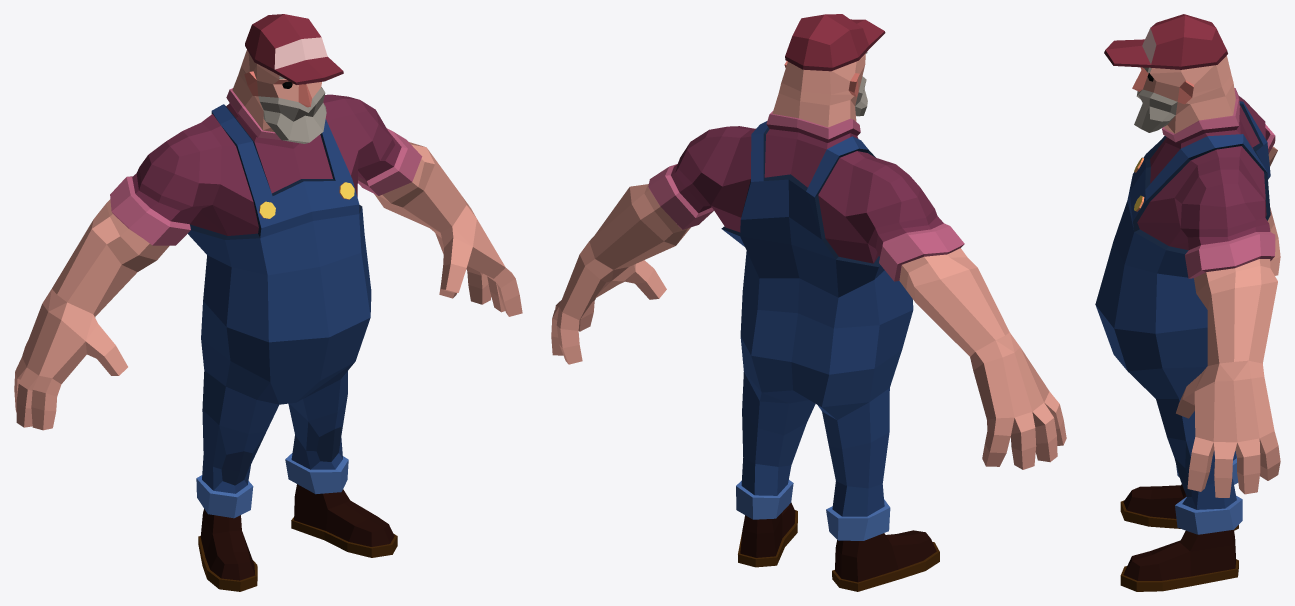
File: Farmer_1.fbx
The picture shows the model from 3 angles, left to right: view 1: azimuth 30°, elevation 25°; view 2: azimuth 150°, elevation 25°; view 3: azimuth 270°, elevation 25°; orthographic projection.
Parts seen in each view (by area): view 1: Farmer_1; view 2: Farmer_1; view 3: Farmer_1.
Boxes of the visible parts, <box> form: Farmer_1: <box>14,14,522,591</box>; Farmer_1: <box>551,14,1066,591</box>; Farmer_1: <box>1095,14,1280,591</box>.
Size of the model in its own units: 416 by 435 by 137.
Materials: 1 (1 with a texture image).
